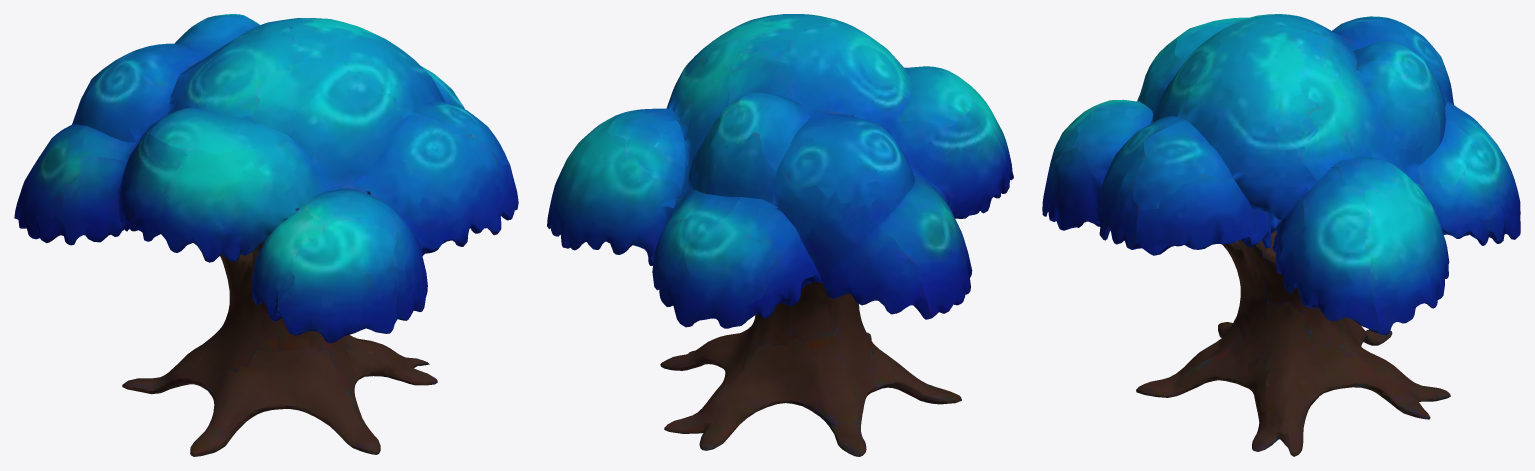
The model's file is familiarity_tree-3copy.glb.
3 renders of one model, left to right at view 1: azimuth 30°, elevation 25°; view 2: azimuth 150°, elevation 25°; view 3: azimuth 270°, elevation 25°, orthographic. The views are drawn at different scales.
Parts seen in each view (by area): view 1: world.001; view 2: world.001; view 3: world.001.
Part boxes in pixels (left/top/right/bottom): world.001: left=14, top=14, right=518, bottom=456; world.001: left=547, top=14, right=1013, bottom=456; world.001: left=1042, top=14, right=1520, bottom=456.
Bounding box in the file's own units: 0.9944 × 0.8359 × 0.9953.
1 material, 1 textured.
